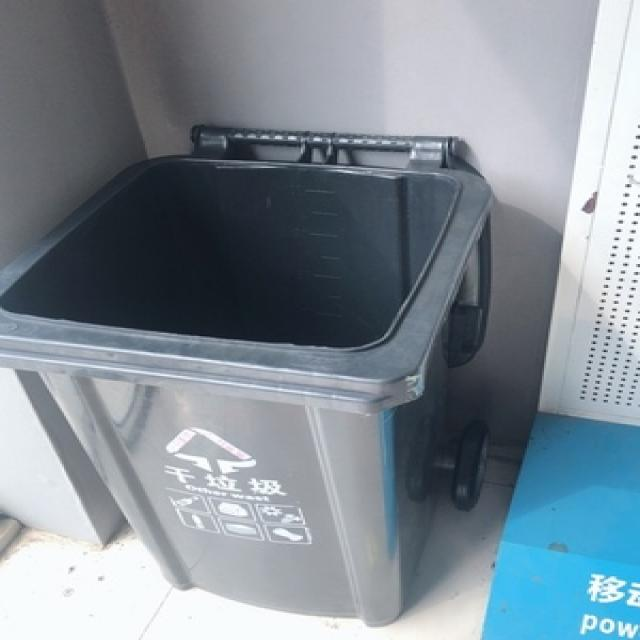ash bin: (6, 122, 508, 624)
